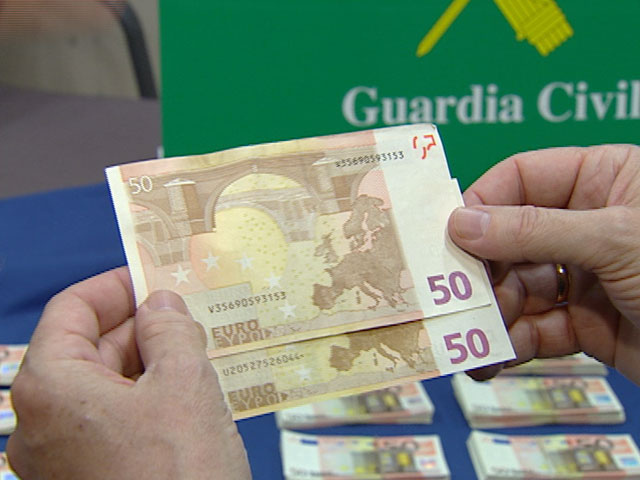billete: (104, 123, 518, 423)
